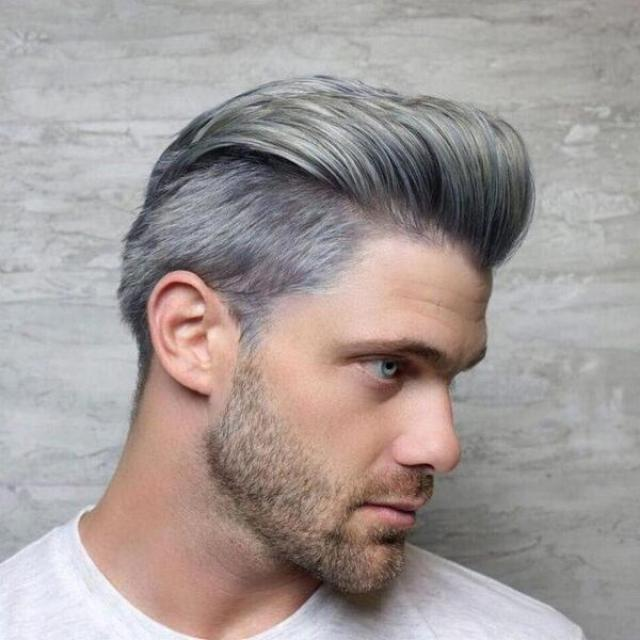Nonhelmet: (116, 64, 529, 614)
